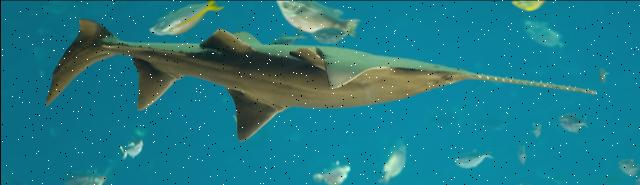Sirip Ekor: (30, 13, 111, 109)
Sirip Punggung: (128, 58, 282, 146)
